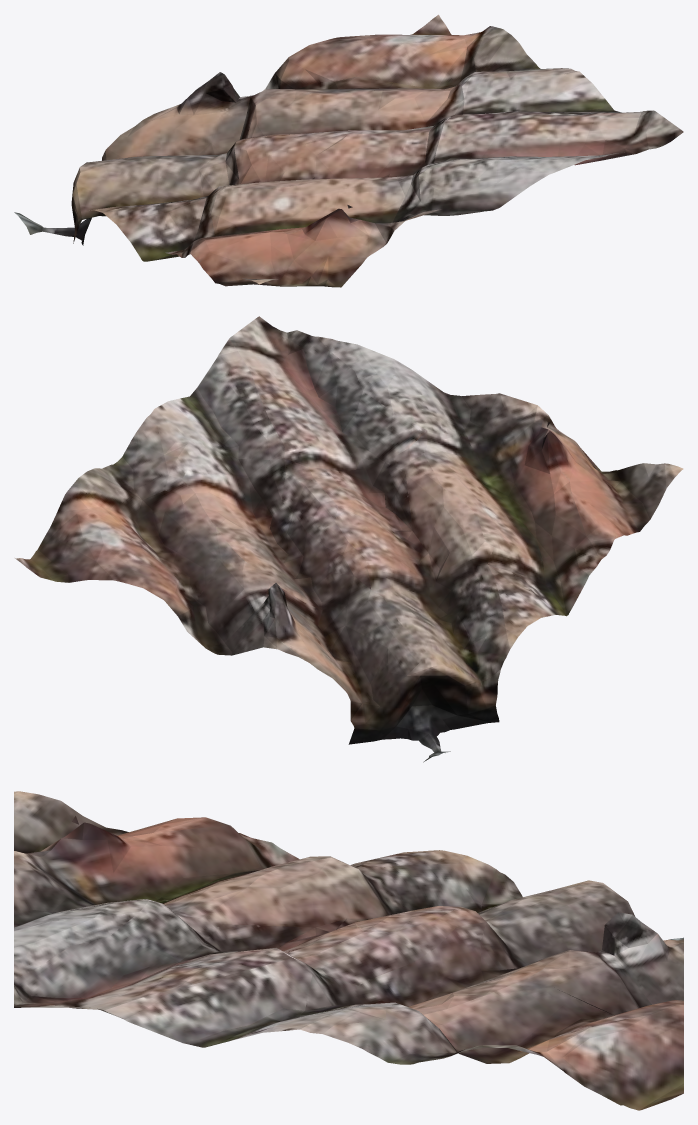
3 views of the same model, one above another, from view 1: azimuth 30°, elevation 25°; view 2: azimuth 150°, elevation 25°; view 3: azimuth 270°, elevation 25° (orthographic). The views are drawn at different scales.
Size of the model in its own units: 0.8374 by 0.3153 by 0.8374.
3 materials, 3 textured.
